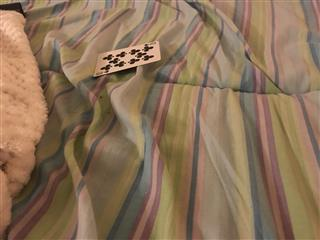TenOfClubs: (92, 39, 162, 76)
